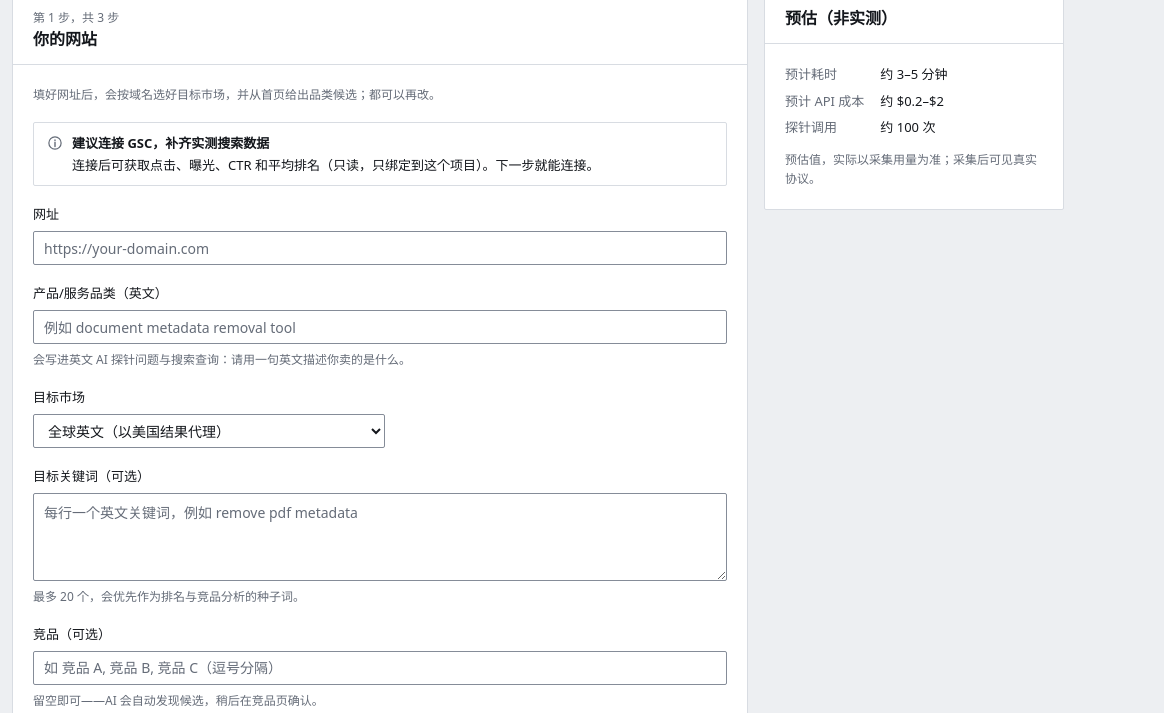
Scenario: NewAnalysisForm 第 2 步引擎多选预填（savedEngines 回填，spec §2.4） › 传 savedEngines 仅含一个引擎 key 时，仅该 chip 选中
Type "https://example.com" into the field labelled "网址" at x=380, y=248, box [33, 231, 727, 265]
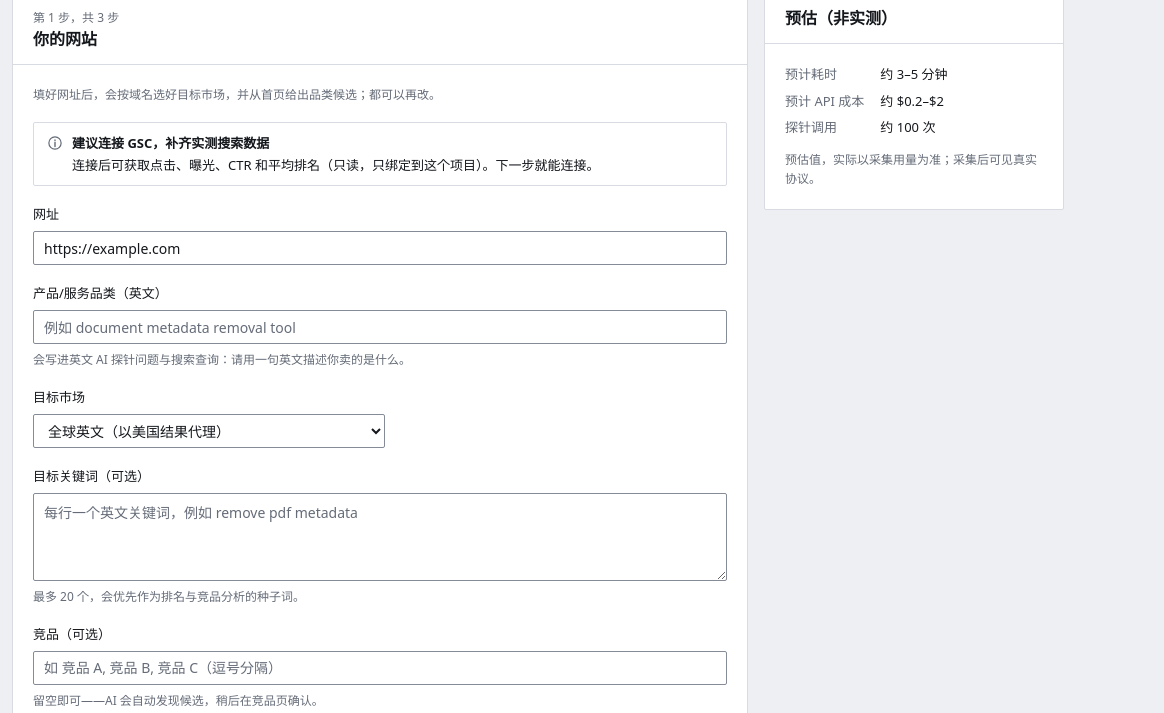
Type "saas tool" into the field labelled "产品/服务品类（英文）" at x=380, y=327, box [33, 310, 727, 344]
(page scrolled)
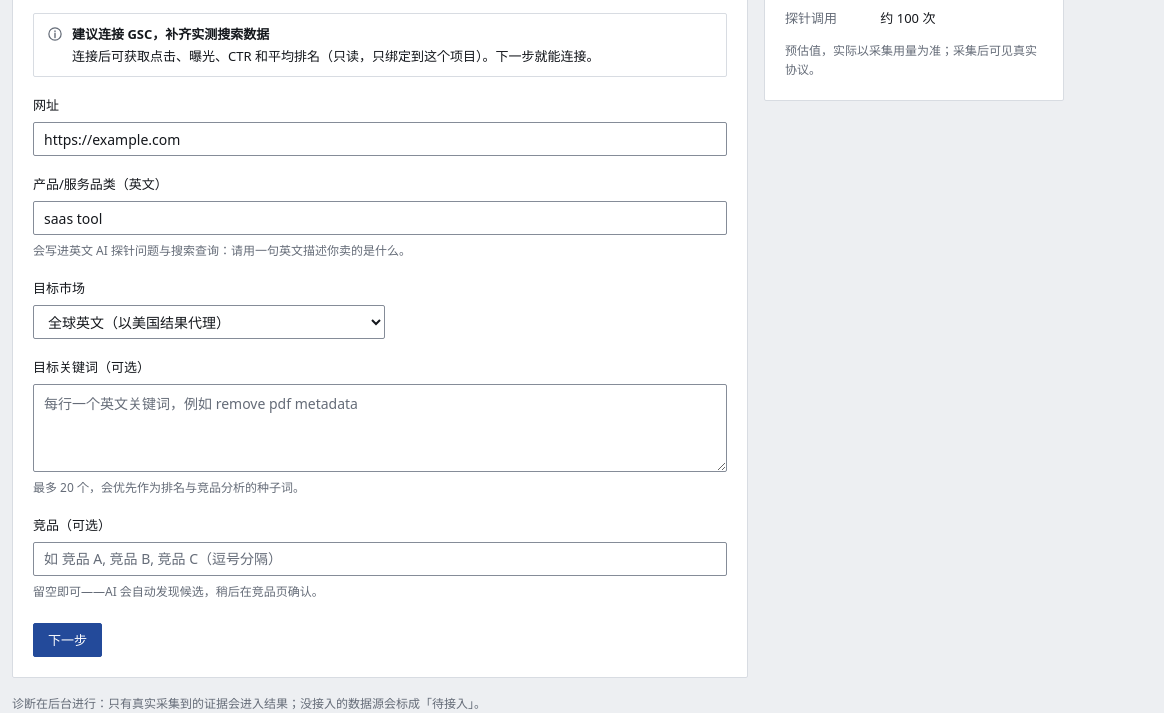
Click the button "下一步" at x=68, y=640, box [33, 623, 102, 657]
(page scrolled)
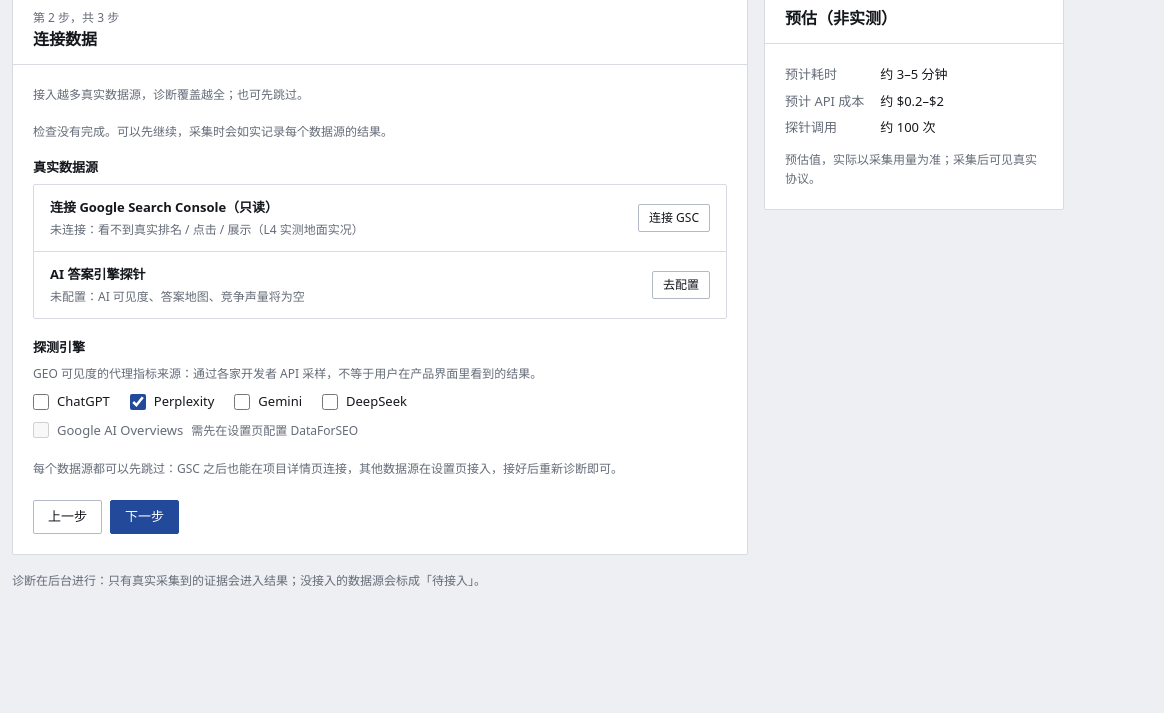
Result: the heading "连接数据" is shown at [33, 28, 97, 50]
Result: the checkbox labelled "ChatGPT" is not checked at [33, 394, 49, 410]
Result: the checkbox labelled "Perplexity" is checked at [130, 394, 146, 410]
